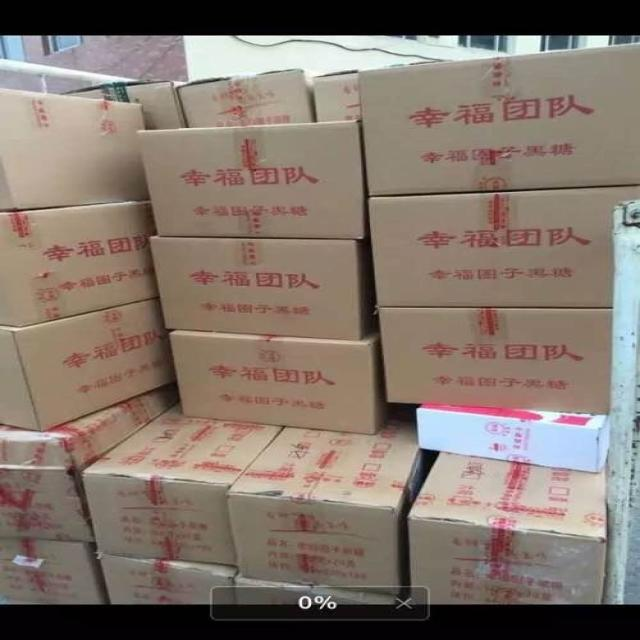box: (360, 44, 639, 194), (226, 417, 418, 596), (361, 186, 639, 308), (75, 406, 285, 565), (404, 454, 610, 606), (0, 379, 180, 543), (137, 123, 368, 242), (167, 322, 398, 436), (380, 307, 612, 414), (148, 237, 379, 343), (0, 298, 176, 431), (1, 199, 161, 327), (0, 87, 147, 212), (415, 403, 613, 474), (170, 69, 316, 127), (96, 551, 235, 609), (1, 540, 107, 605), (50, 79, 186, 127), (229, 577, 396, 607), (304, 73, 359, 123)
